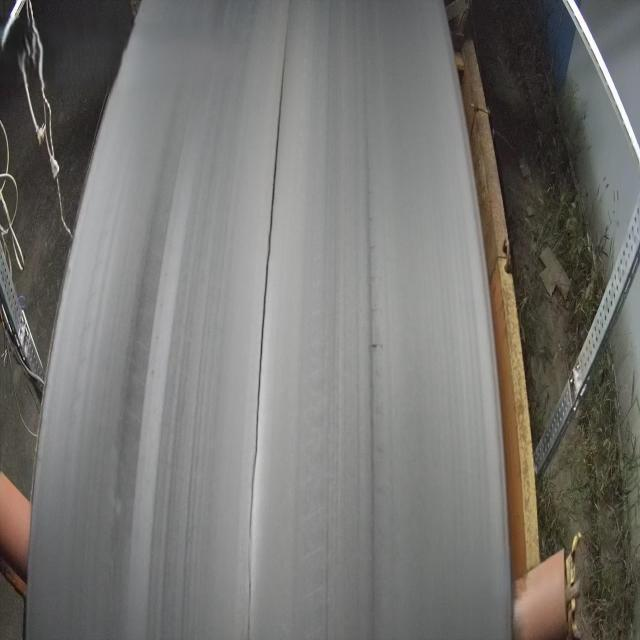Tear: (243, 46, 296, 554)
